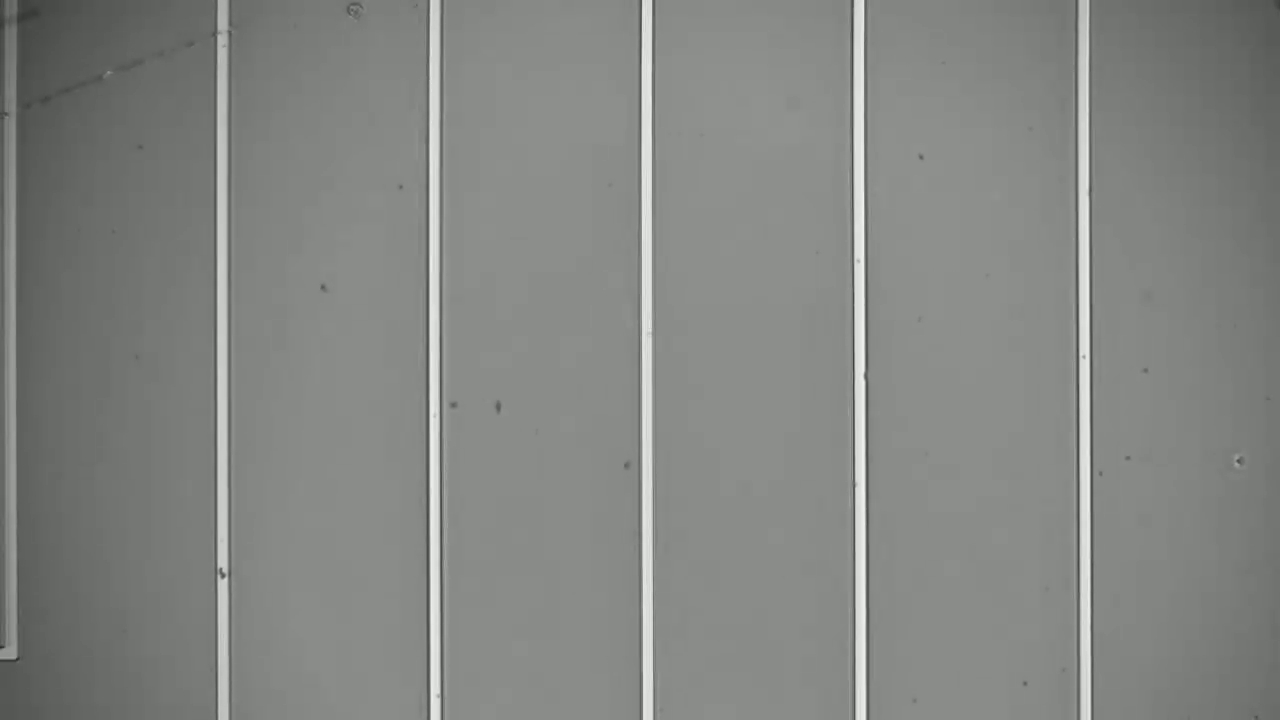scratch: (7, 33, 215, 115)
stains_enbedded: (209, 560, 238, 590)
